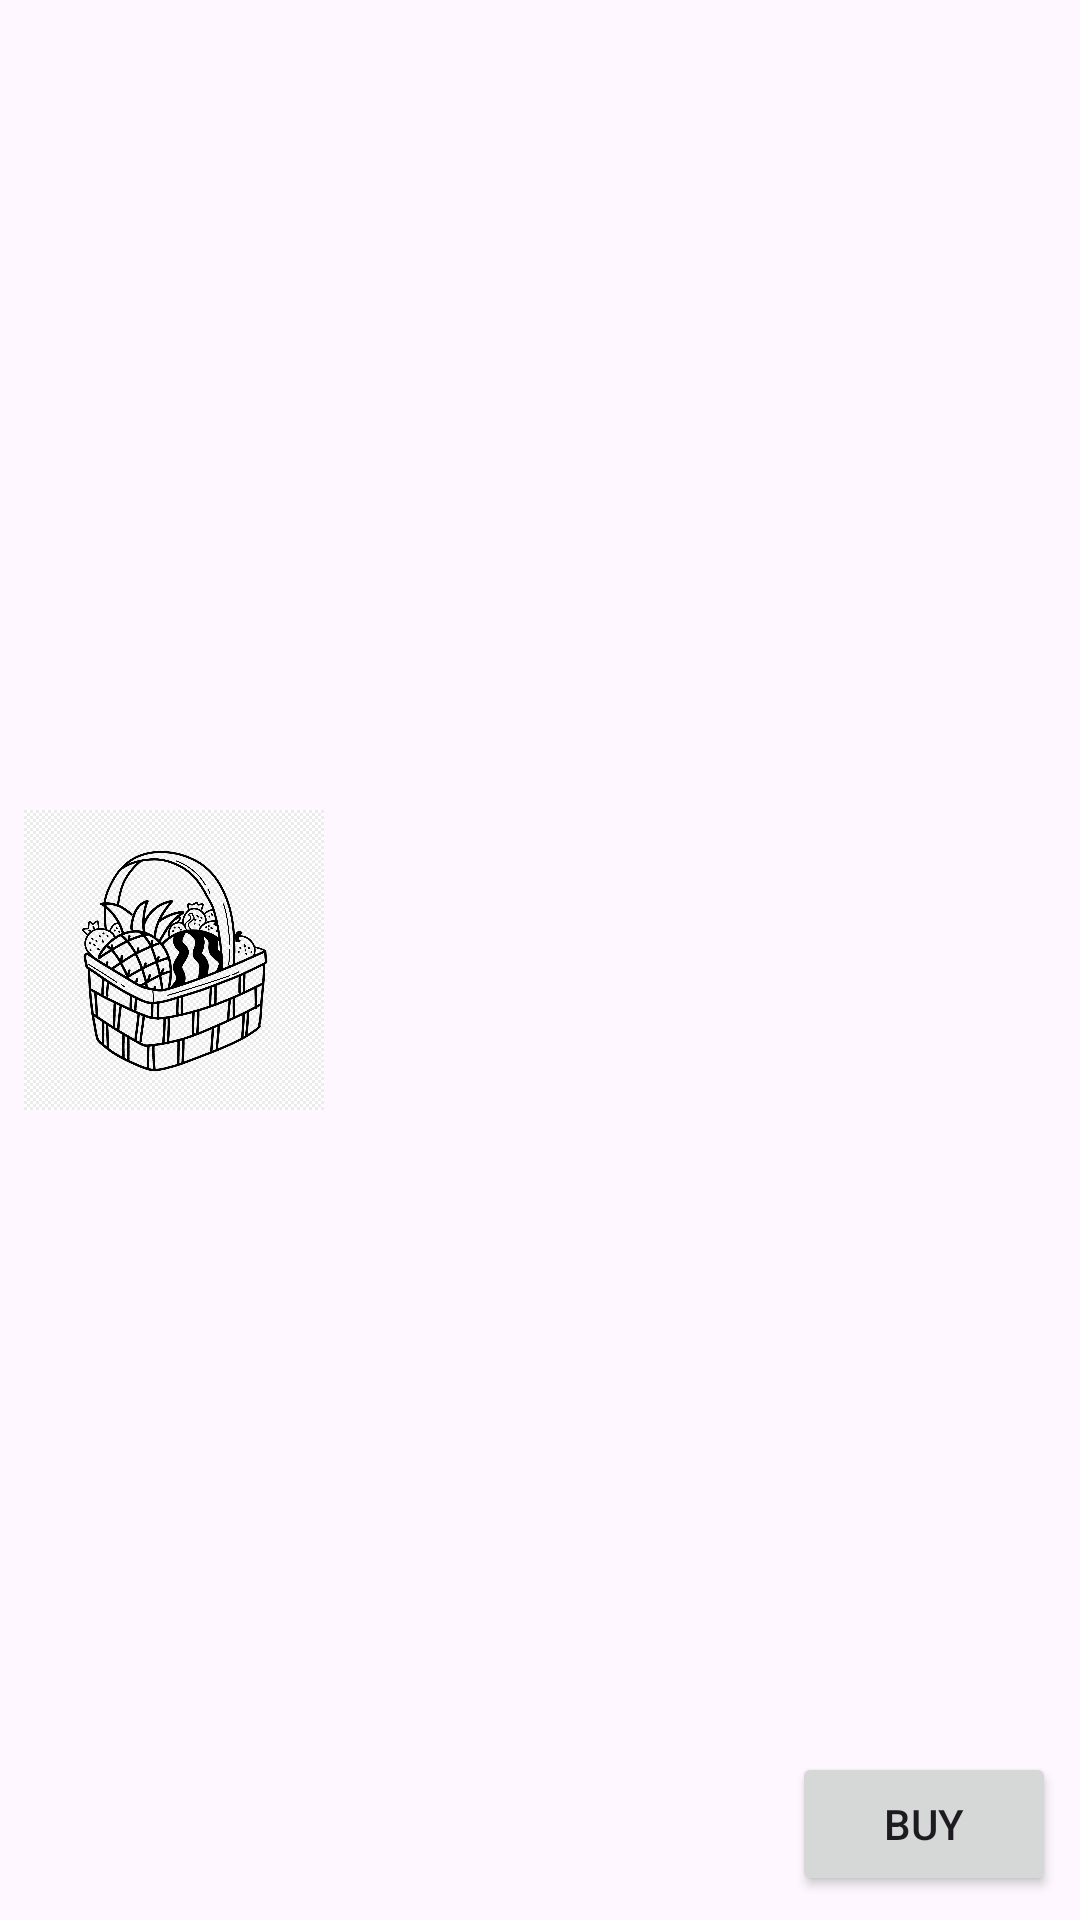

Screen size 1080w x 1920h. Icon name, then its box in pixels as (left=x1, top=y1, right=x2, bottom=y2):
Product Image: (left=82, top=851, right=268, bottom=1072)
